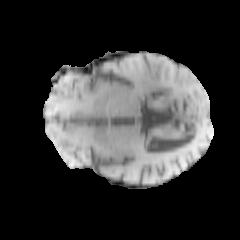glioma: (118, 64, 173, 92)
